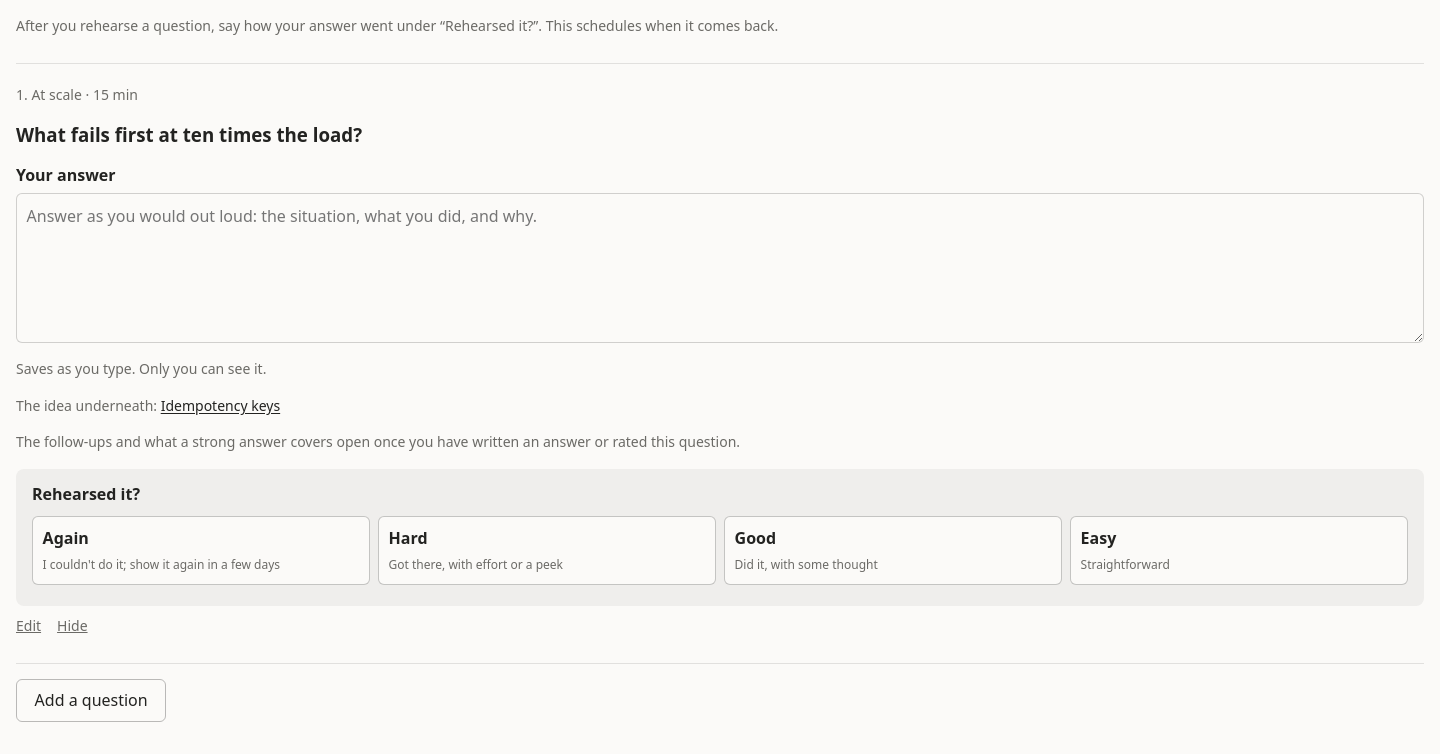
ReviewsDue › editing in the app › opens a question's form with what it says now, and lists problems the server finds
(page scrolled)
Click the button "Edit". click: click(29, 626)
box: 16,615 -> 41,638
(page scrolled)
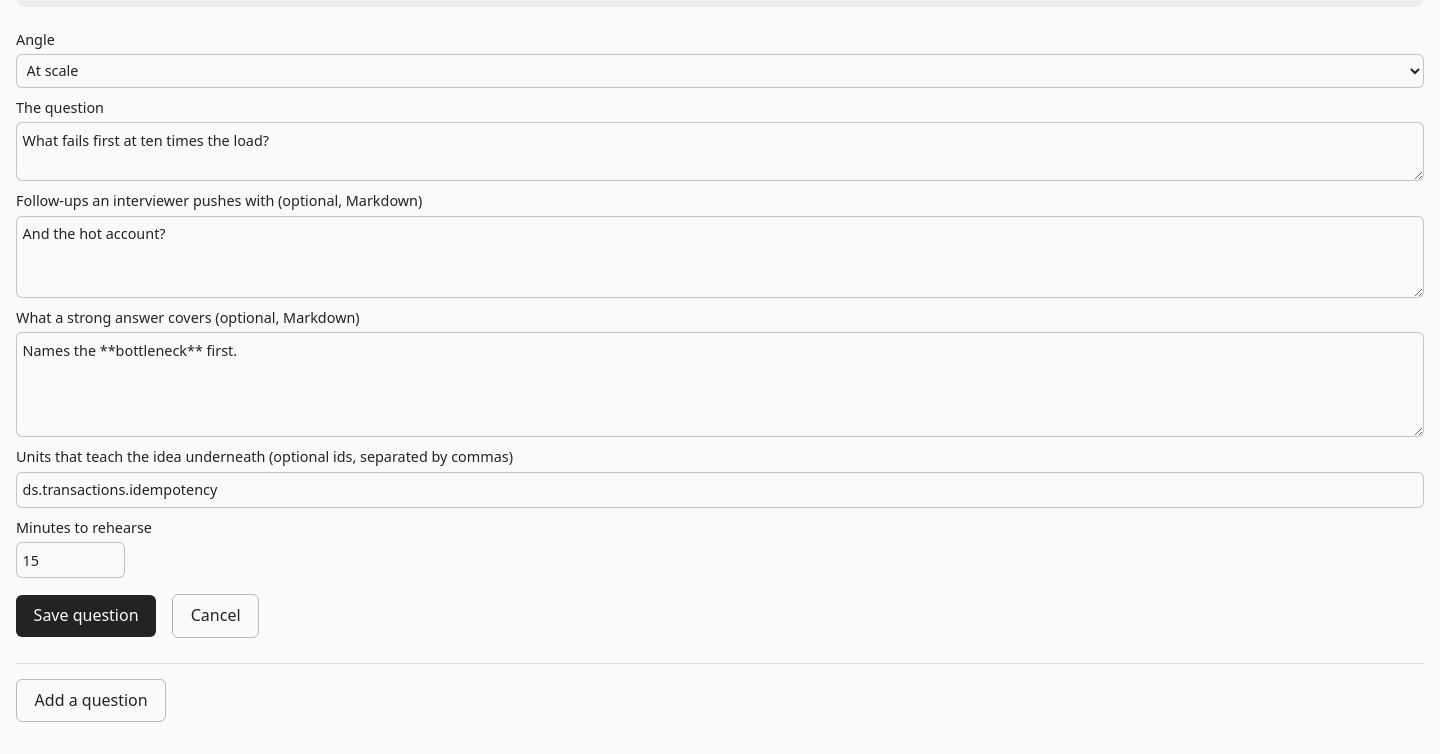
Expected: the text box labelled "The question" holds "What fails first at ten times the load?", 16,122 -> 1424,181
Expected: the field labelled "Units that teach" holds "ds.transactions.idempotency", 16,472 -> 1424,508
Click the button "Save question". click: click(86, 616)
box: 16,595 -> 156,637
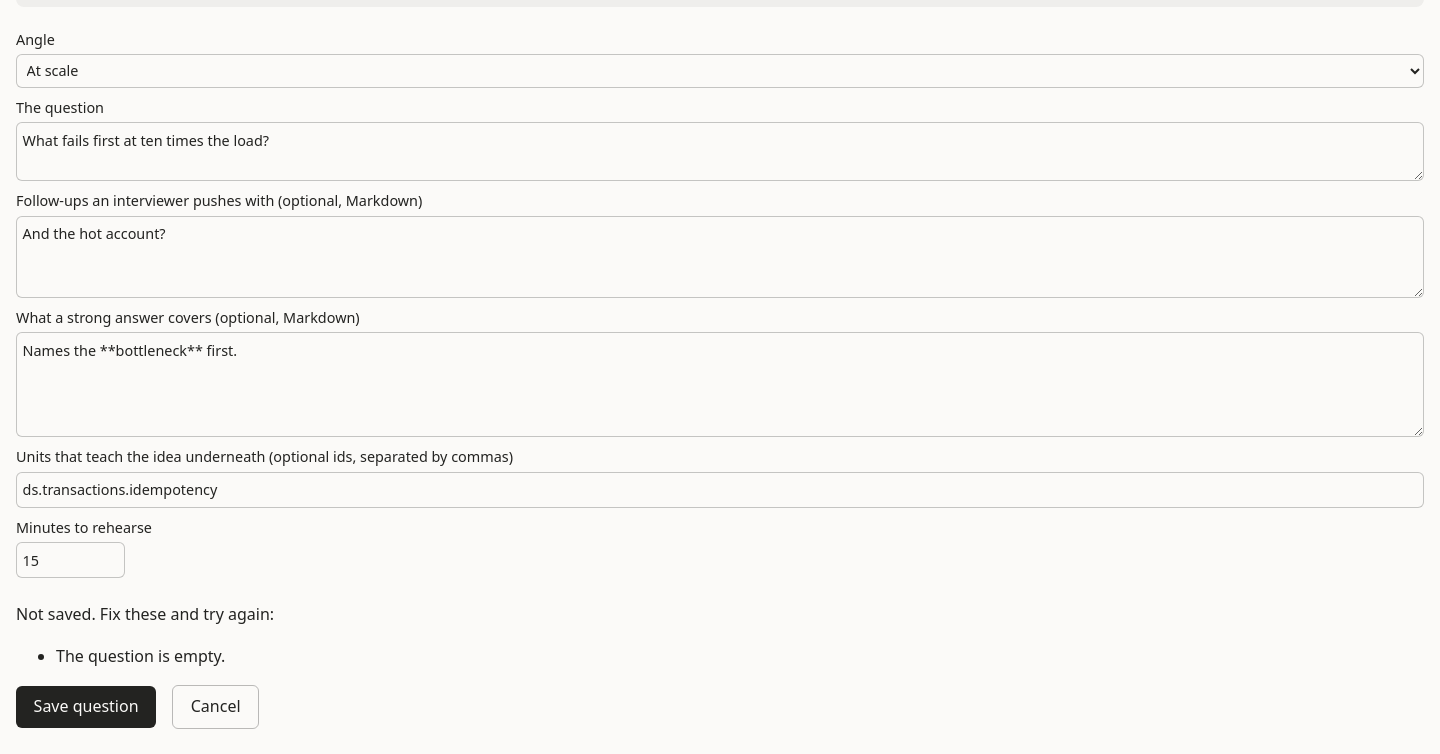
Expected: the list item "The question is empty." is shown, 56,645 -> 225,667
Expected: the text "Not saved. Fix these and try again:" is shown, 16,603 -> 274,625
